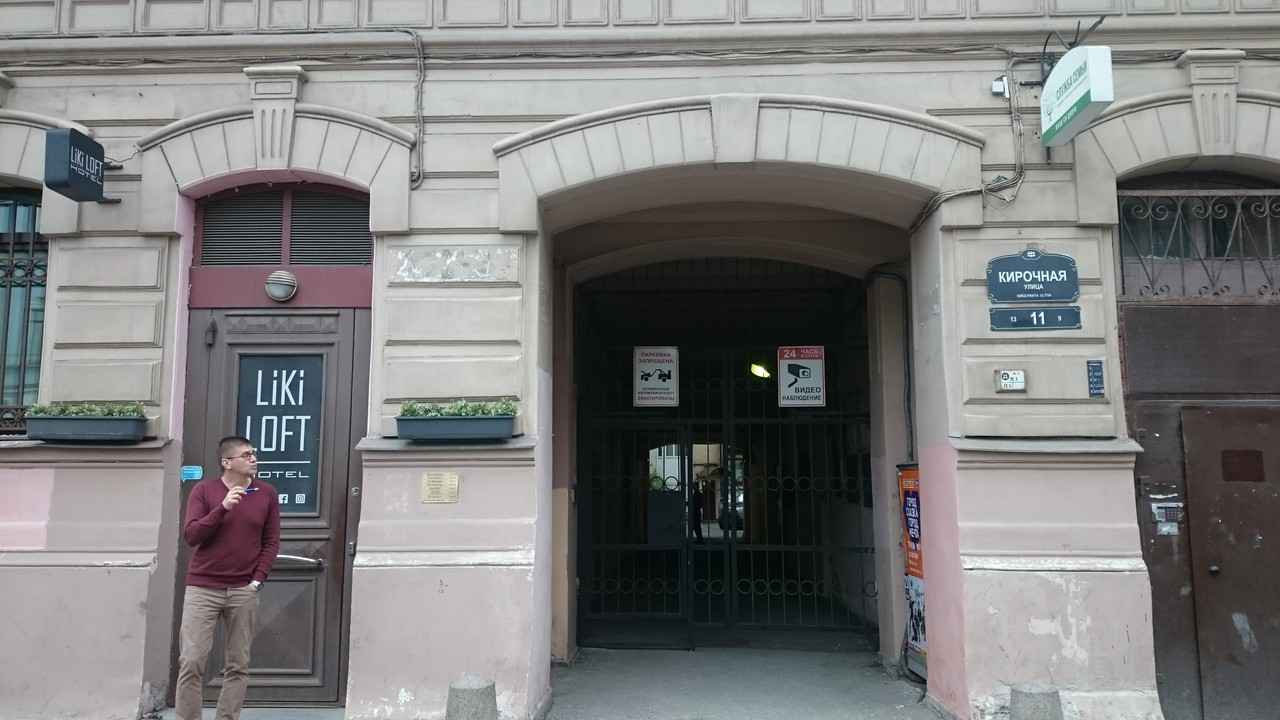arch: (529, 172, 938, 717)
cantilever: (1012, 12, 1117, 152), (40, 123, 125, 208)
